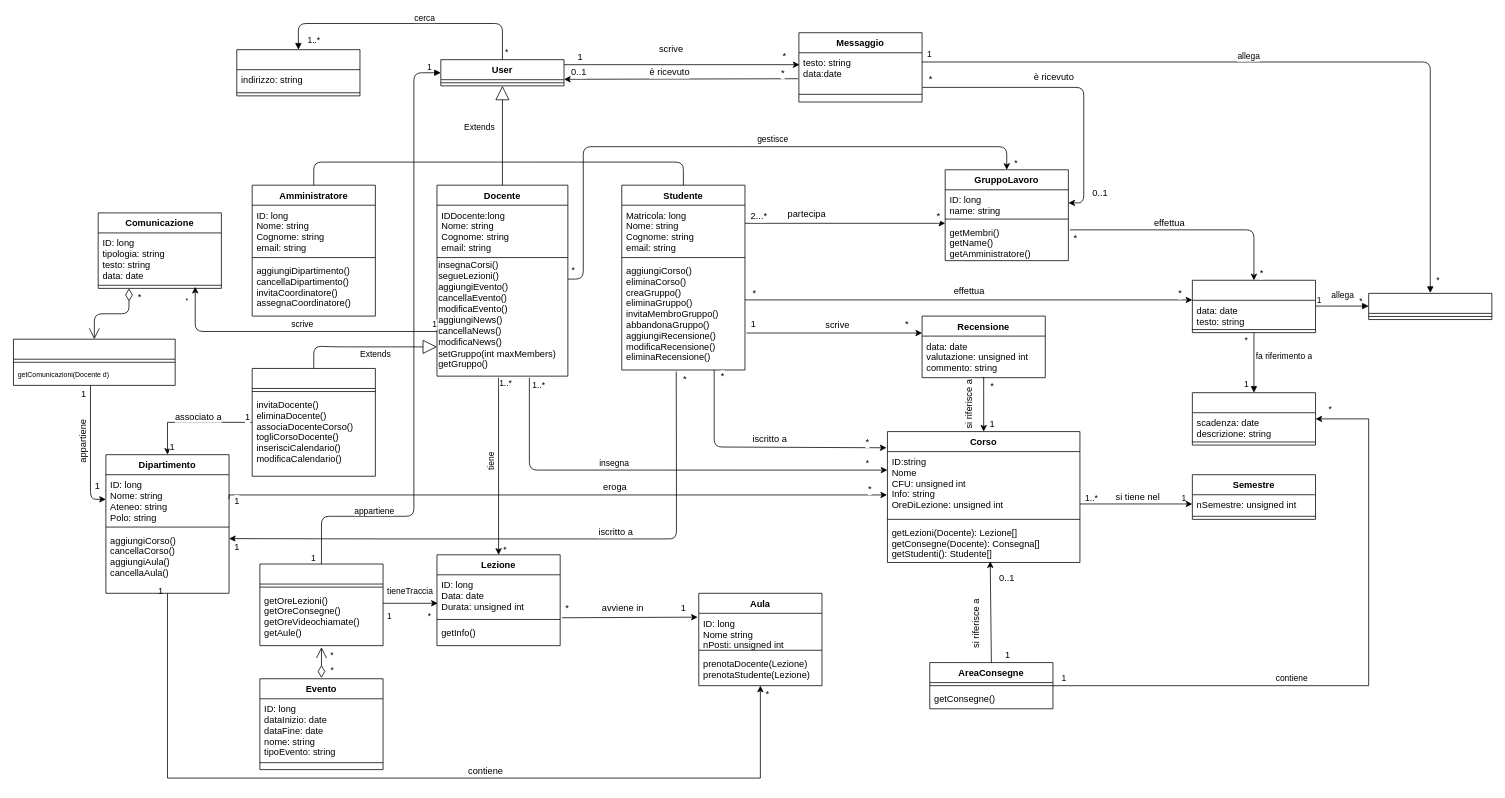
Some shapes in this 1505 by 798 pixel diagram are drawn without their labels. The shapes that lost their labels are listed below. From the top down, each one's box as (x1, y1, x2, y2) in pixels, then its label:
(236, 49, 360, 96): Mensa
(1192, 280, 1316, 333): Consegna
(1368, 293, 1492, 320): file
(13, 338, 175, 385): AreaNews
(251, 368, 375, 476): Coordinatore
(1192, 392, 1316, 445): DettagliConsegna
(259, 563, 383, 646): Calendario
